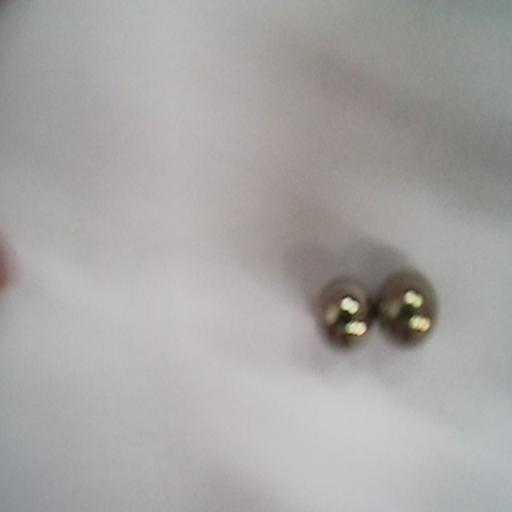steel-ball: (378, 264, 440, 356), (310, 265, 368, 352)
